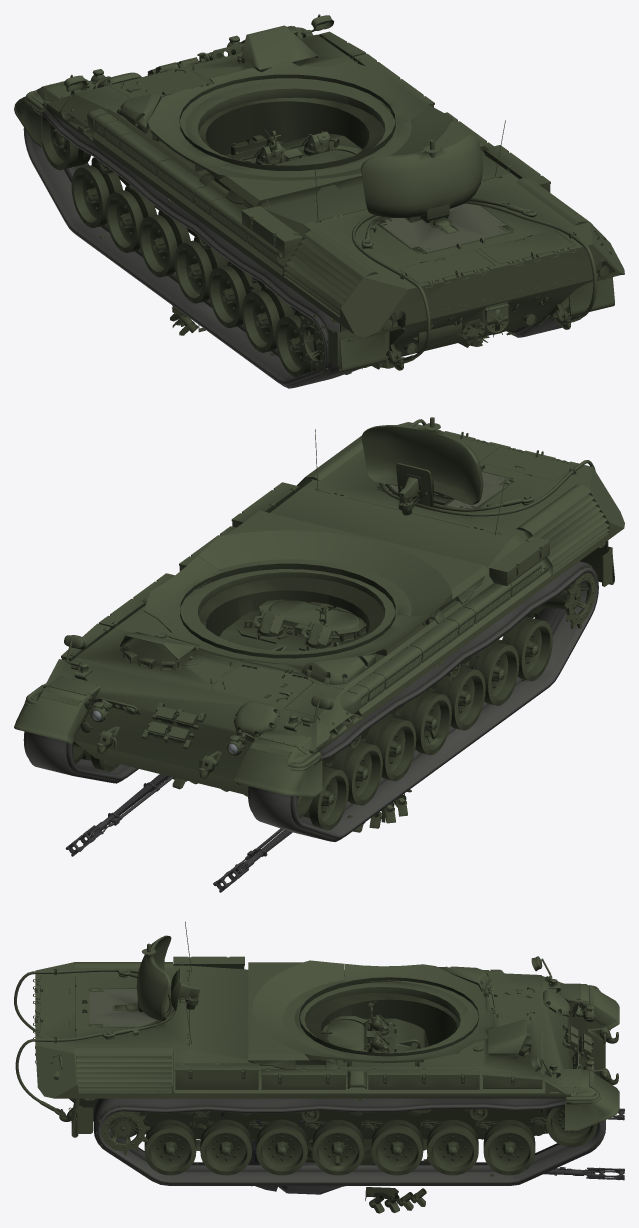
File: gepard.glb
The picture shows the model from 3 angles, top to bottom: view 1: azimuth 30°, elevation 25°; view 2: azimuth 150°, elevation 25°; view 3: azimuth 270°, elevation 25°; orthographic projection. The views are drawn at different scales.
Visible parts, largest first — view 1: body|flakpz_i_gepard_body_c, body|ger_flakpz_i_gepard_track_c_left, body|flakpz_i_gepard_turret_c, radar|flakpz_i_gepard_turret_c, turret|flakpz_i_gepard_turret_c, body|net_f_c; view 2: body|flakpz_i_gepard_body_c, body|ger_flakpz_i_gepard_track_c_left, radar|flakpz_i_gepard_turret_c, body|flakpz_i_gepard_turret_c, turret|flakpz_i_gepard_turret_c, body|ger_flakpz_i_gepard_track_c_right, cradle|flakpz_i_gepard_gun_c, cradle|flakpz_i_gepard_turret_c, body|net_f_c; view 3: body|flakpz_i_gepard_body_c, body|ger_flakpz_i_gepard_track_c_right, body|flakpz_i_gepard_turret_c, turret|flakpz_i_gepard_turret_c, radar|flakpz_i_gepard_turret_c, body|net_f_c, cradle|flakpz_i_gepard_gun_c, cradle|flakpz_i_gepard_turret_c.
Part boxes in pixels (x1,y1,x2,y2): body|flakpz_i_gepard_body_c: (14,14,624,377); body|ger_flakpz_i_gepard_track_c_left: (23,109,364,388); body|flakpz_i_gepard_turret_c: (179,74,395,170); radar|flakpz_i_gepard_turret_c: (361,133,482,223); turret|flakpz_i_gepard_turret_c: (188,120,505,293); body|net_f_c: (380,203,506,251); body|flakpz_i_gepard_body_c: (14,419,624,830); body|ger_flakpz_i_gepard_track_c_left: (248,561,598,841); radar|flakpz_i_gepard_turret_c: (361,417,483,515); body|flakpz_i_gepard_turret_c: (180,563,395,658); turret|flakpz_i_gepard_turret_c: (219,429,505,764); body|ger_flakpz_i_gepard_track_c_right: (23,731,138,783); cradle|flakpz_i_gepard_gun_c: (65,685,435,892); cradle|flakpz_i_gepard_turret_c: (172,777,411,832); body|net_f_c: (383,472,506,508); body|flakpz_i_gepard_body_c: (14,956,619,1175); body|ger_flakpz_i_gepard_track_c_right: (93,1098,605,1185); body|flakpz_i_gepard_turret_c: (299,977,478,1056); turret|flakpz_i_gepard_turret_c: (185,921,428,1166); radar|flakpz_i_gepard_turret_c: (136,935,199,1020); body|net_f_c: (90,988,157,1026); cradle|flakpz_i_gepard_gun_c: (249,1108,624,1194); cradle|flakpz_i_gepard_turret_c: (365,1187,426,1213).
Bounding box in the file's own units: 3.26 × 2.99 × 7.37.
